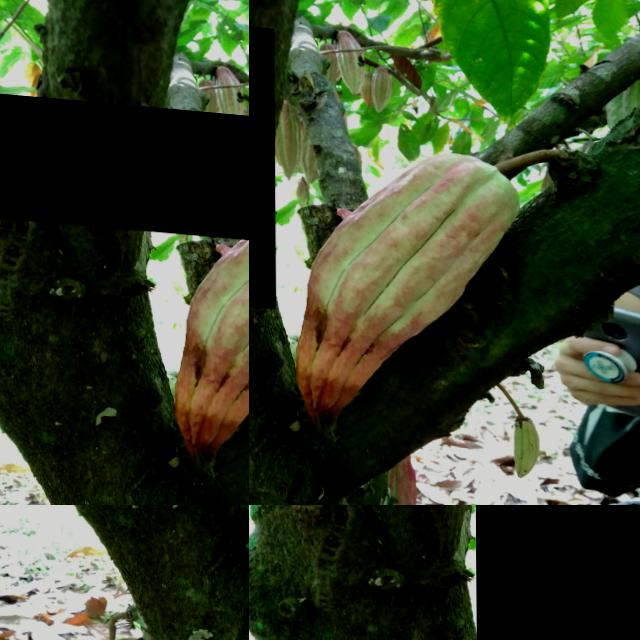Fitoftora: (475, 505, 640, 640)
Monilia: (0, 87, 249, 245)
